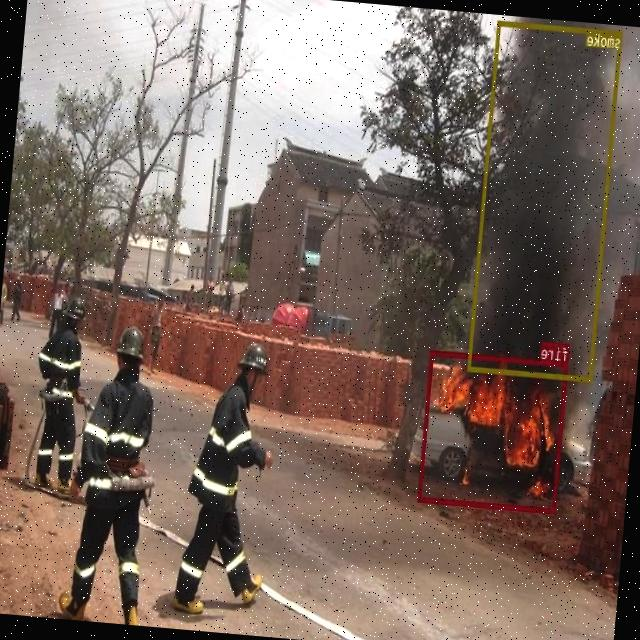fire: (418, 349, 568, 512)
smoke: (468, 19, 622, 380)
